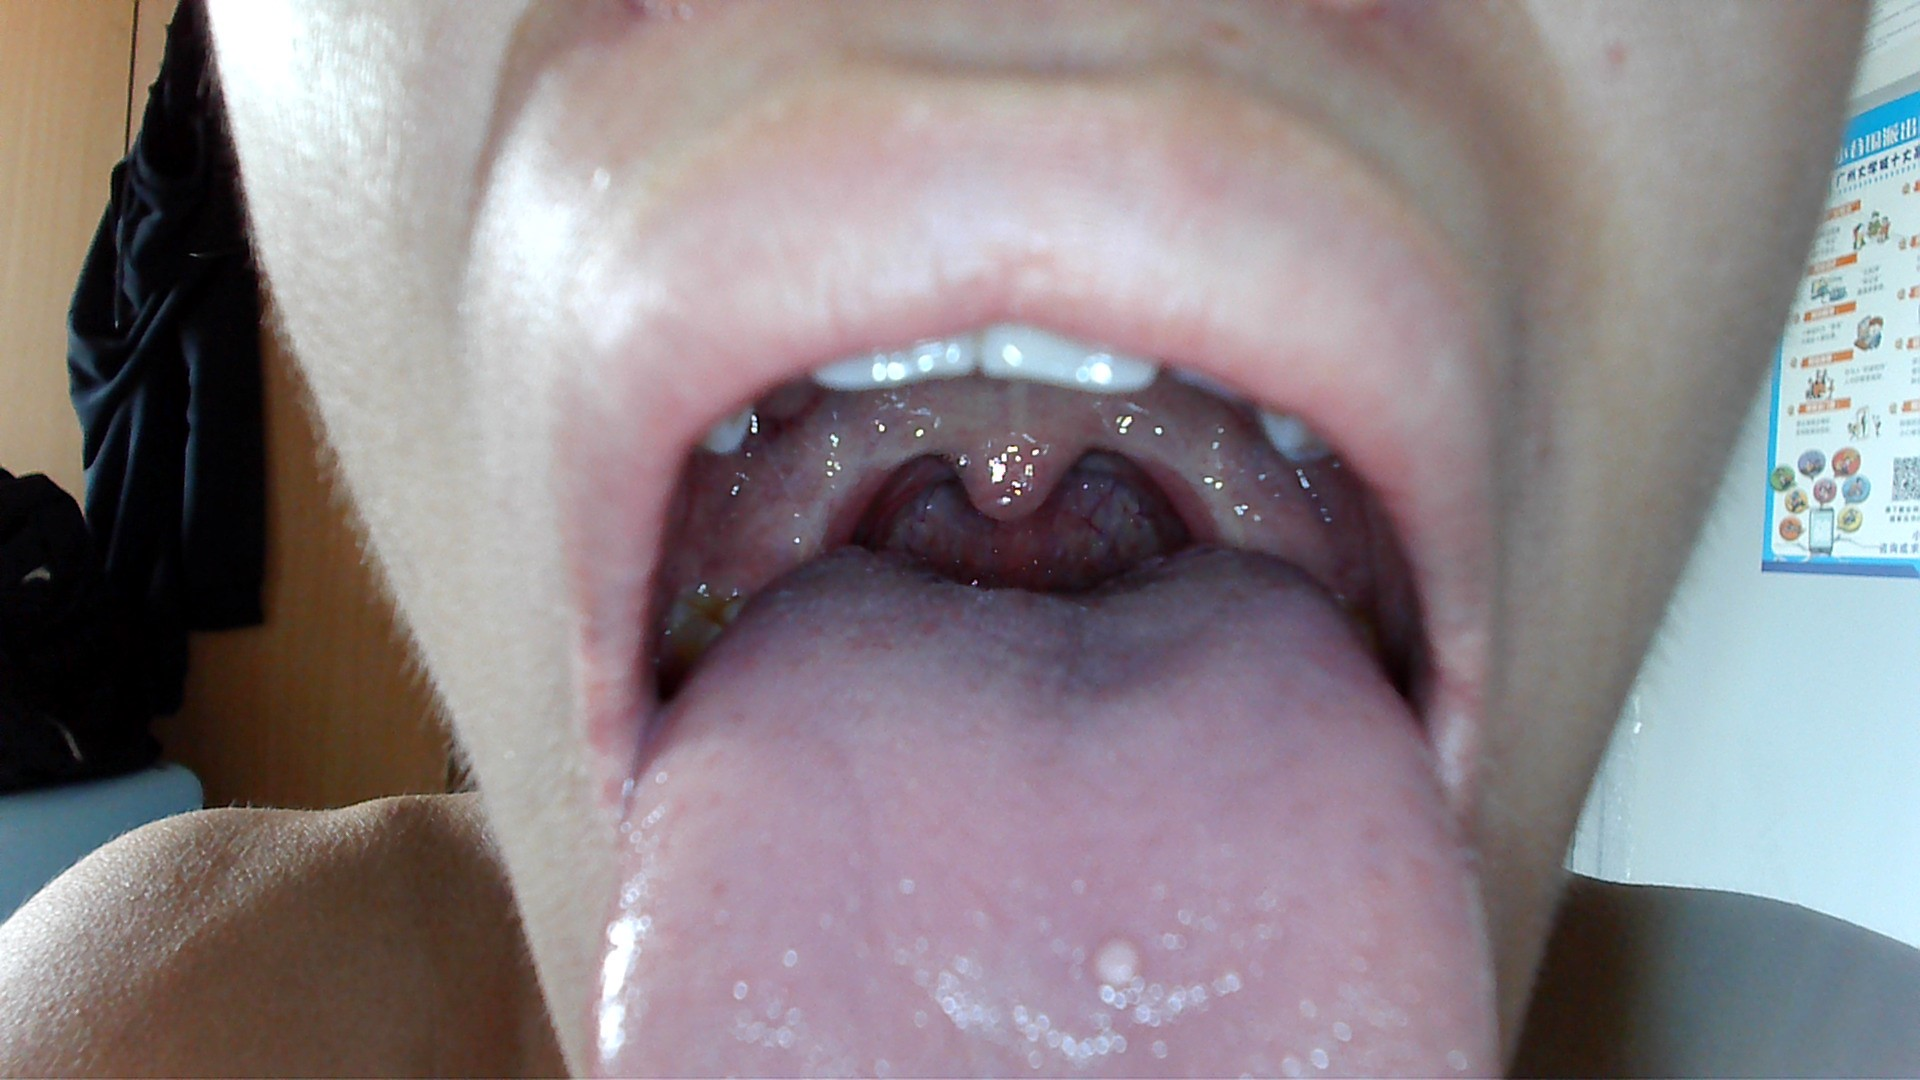throat: (1138, 433, 1238, 549), (786, 433, 878, 553)
